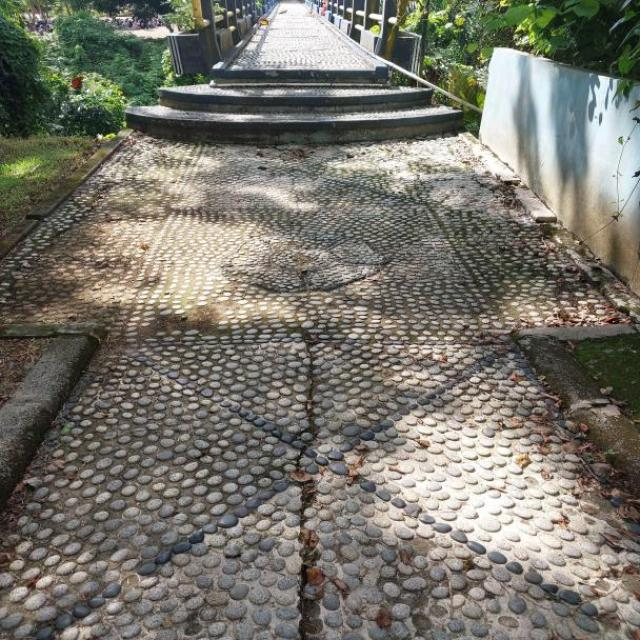stairs ahead at: (130, 65, 456, 132)
